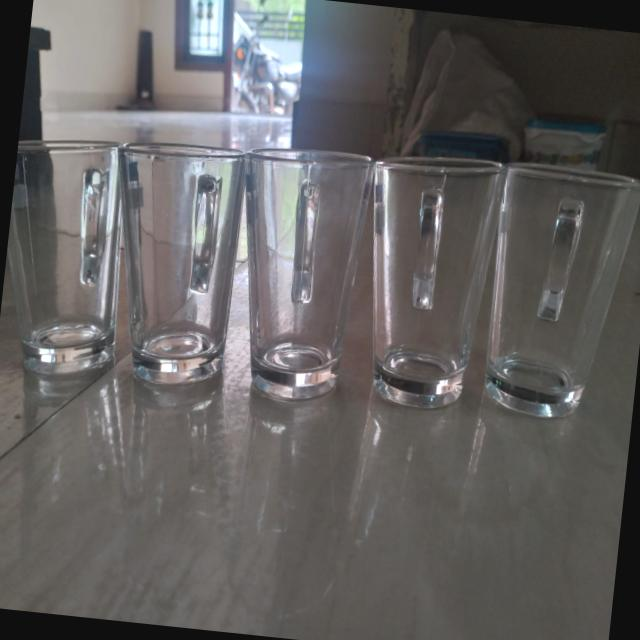glass-VX4N: (476, 152, 640, 432), (348, 143, 498, 413), (220, 143, 370, 407), (101, 136, 243, 385), (1, 134, 130, 390)
